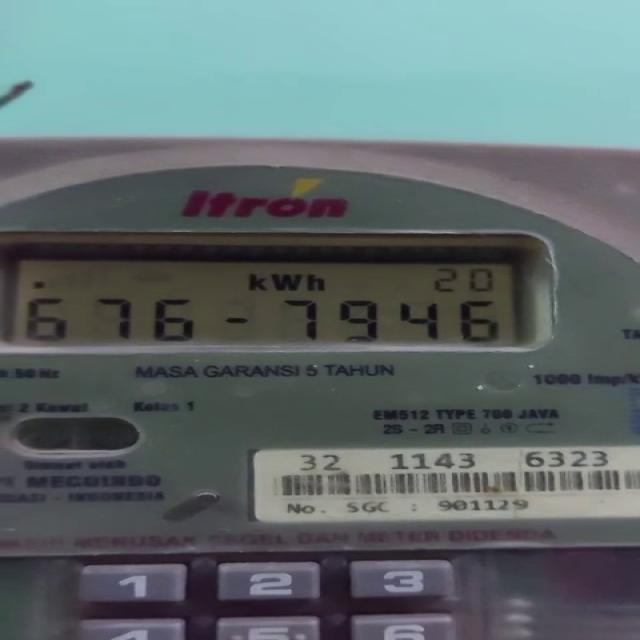LCD: (5, 233, 551, 354)
